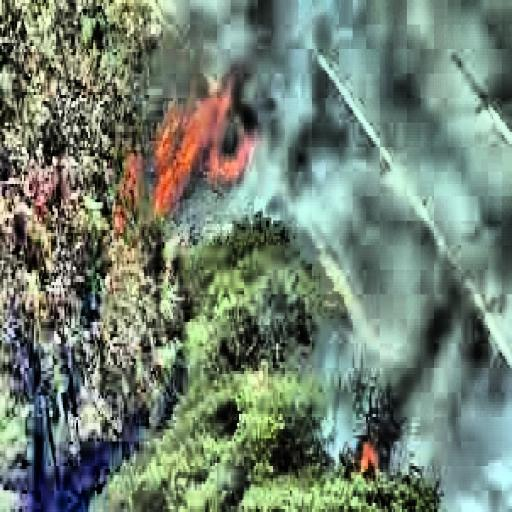fire: (102, 77, 261, 230)
